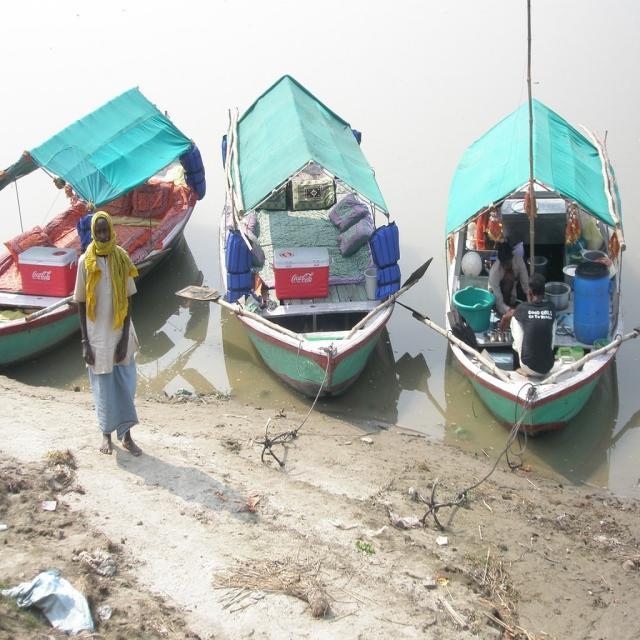boat: (435, 91, 629, 436), (0, 76, 209, 373), (214, 69, 397, 406)
